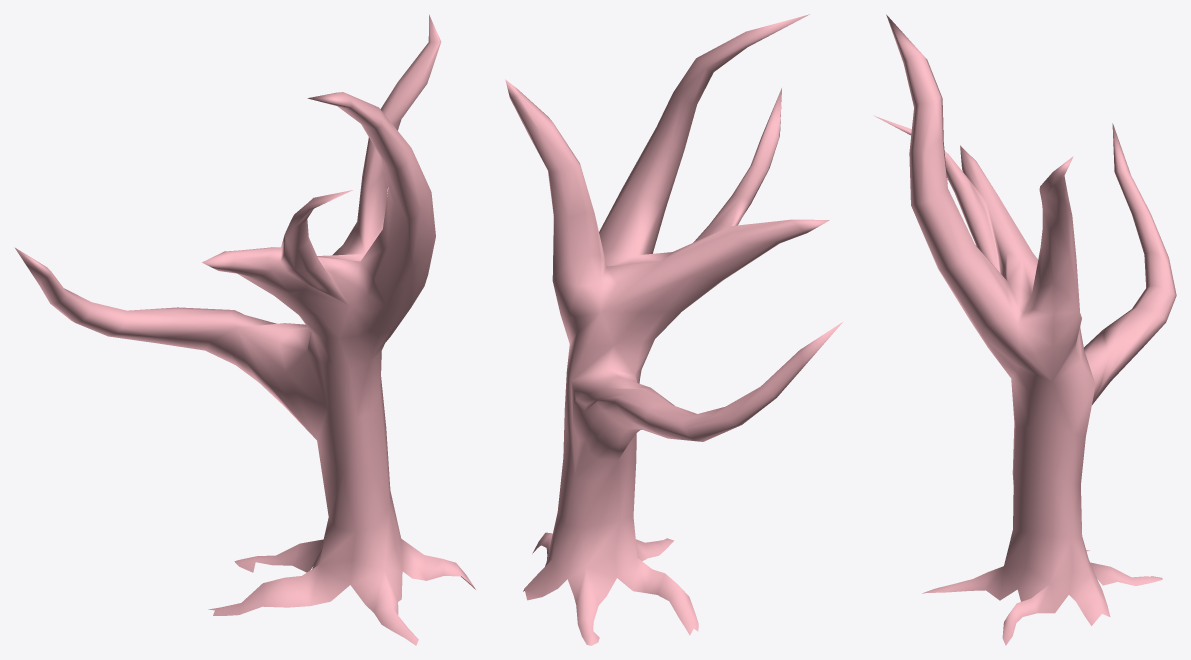
The picture shows the model from 3 angles, left to right: view 1: azimuth 30°, elevation 25°; view 2: azimuth 150°, elevation 25°; view 3: azimuth 270°, elevation 25°; orthographic projection. The views are drawn at different scales.
Visible parts, largest first — view 1: Object26; view 2: Object26; view 3: Object26.
Part boxes in pixels (left/top/right/bottom): Object26: left=14, top=14, right=475, bottom=645; Object26: left=505, top=14, right=842, bottom=645; Object26: left=873, top=14, right=1176, bottom=645.
Size of the model in its own units: 148 by 212 by 110.
